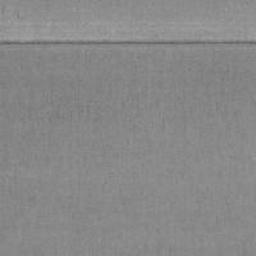Welding line: (0, 38, 256, 46)
